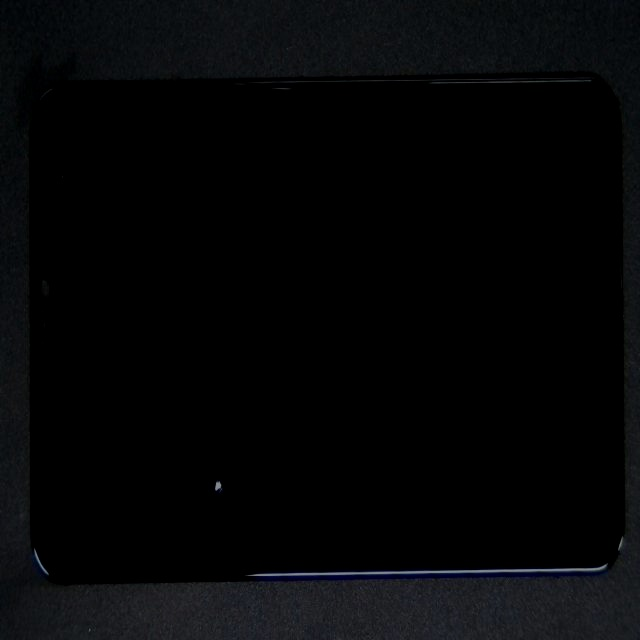stain: (122, 220, 327, 640)
